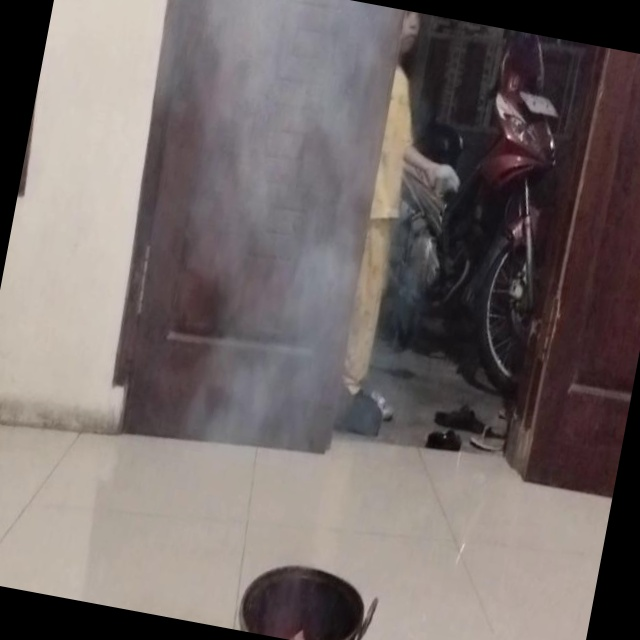smoke: (133, 0, 428, 506)
